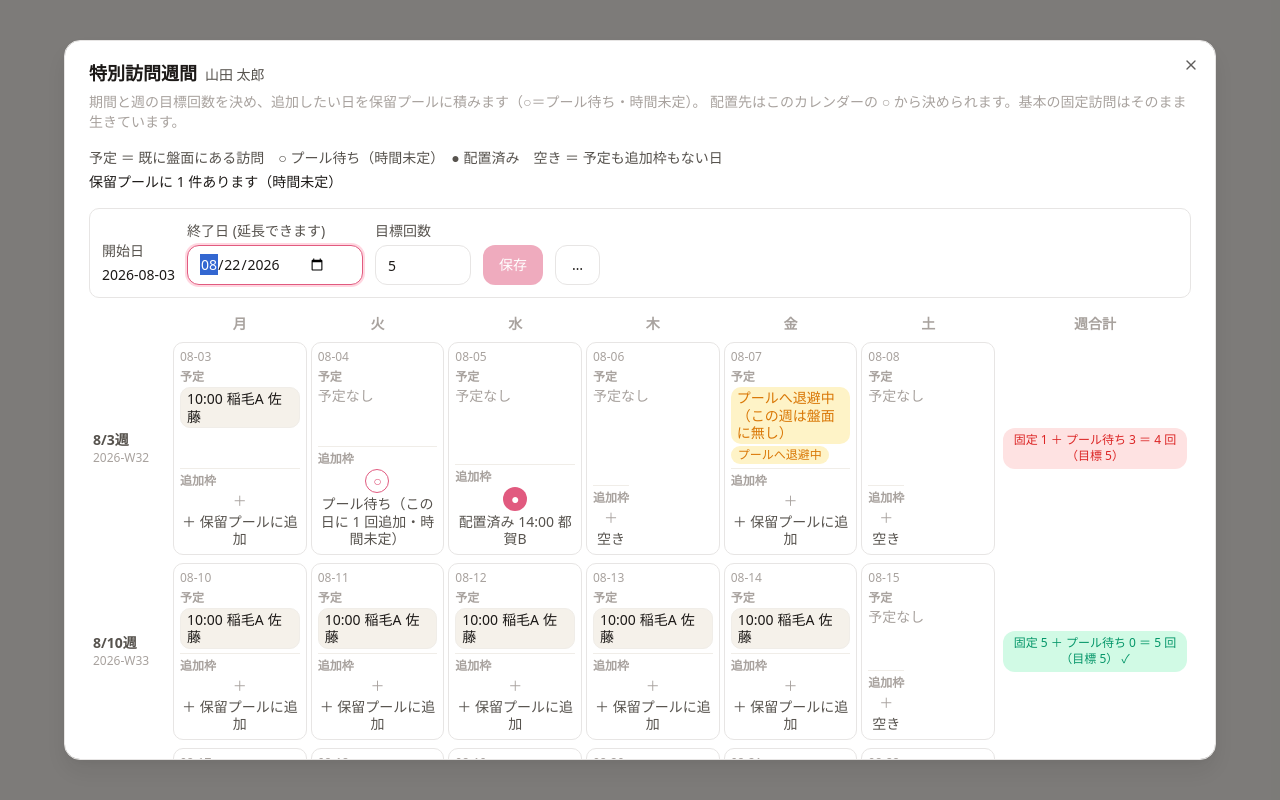
Test case: SpecialVisitWeekDialog — ③ セルメニュー (追加 / 取消 / 配置) › ○ のクリックはメニューを開くだけで、取消は走らない
The image size is (1280, 800).
Click the button with test id "svw-mark-0-1" at (378, 448), box 312,343 -> 443,554
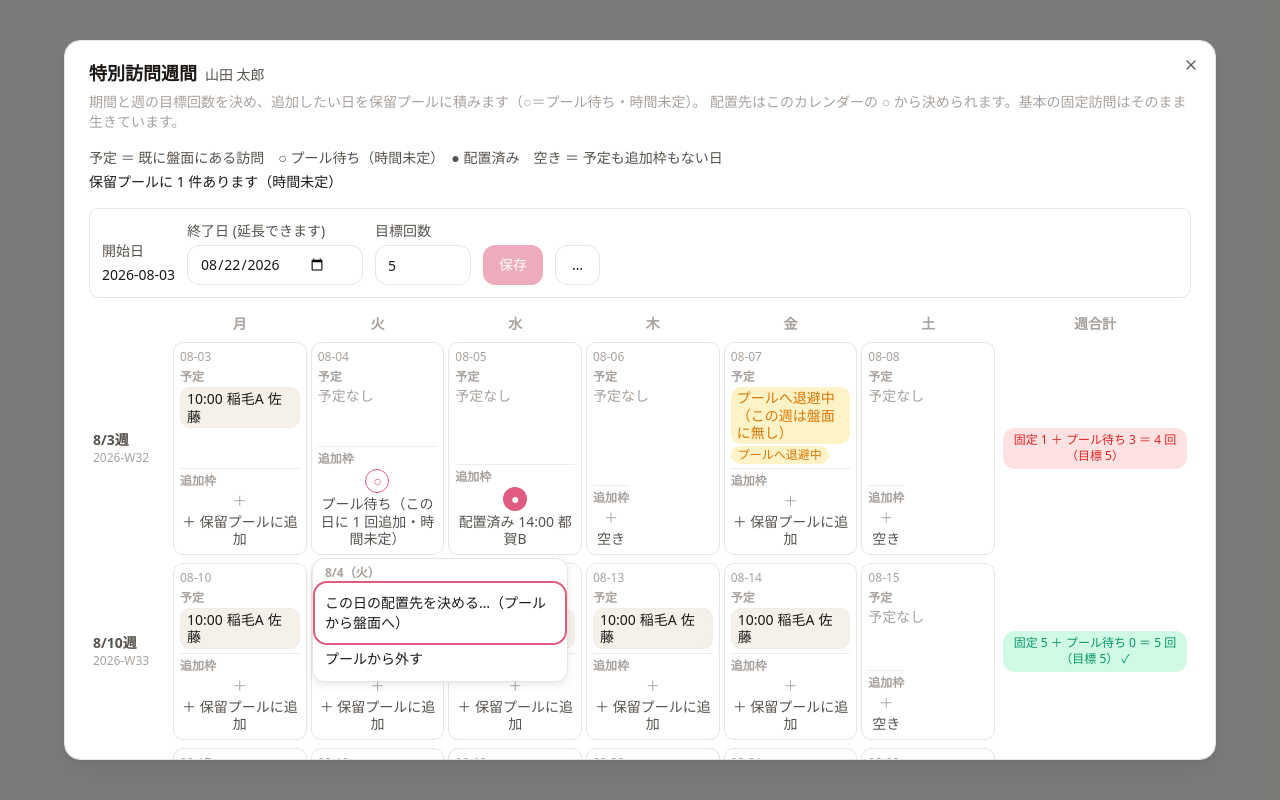
Check: the menu with test id "svw-menu-0-1" is shown, box 312,558 -> 568,682
Check: the menu item with test id "svw-menu-place-0-1" shows "この日の配置先を決める", box 317,585 -> 563,641
